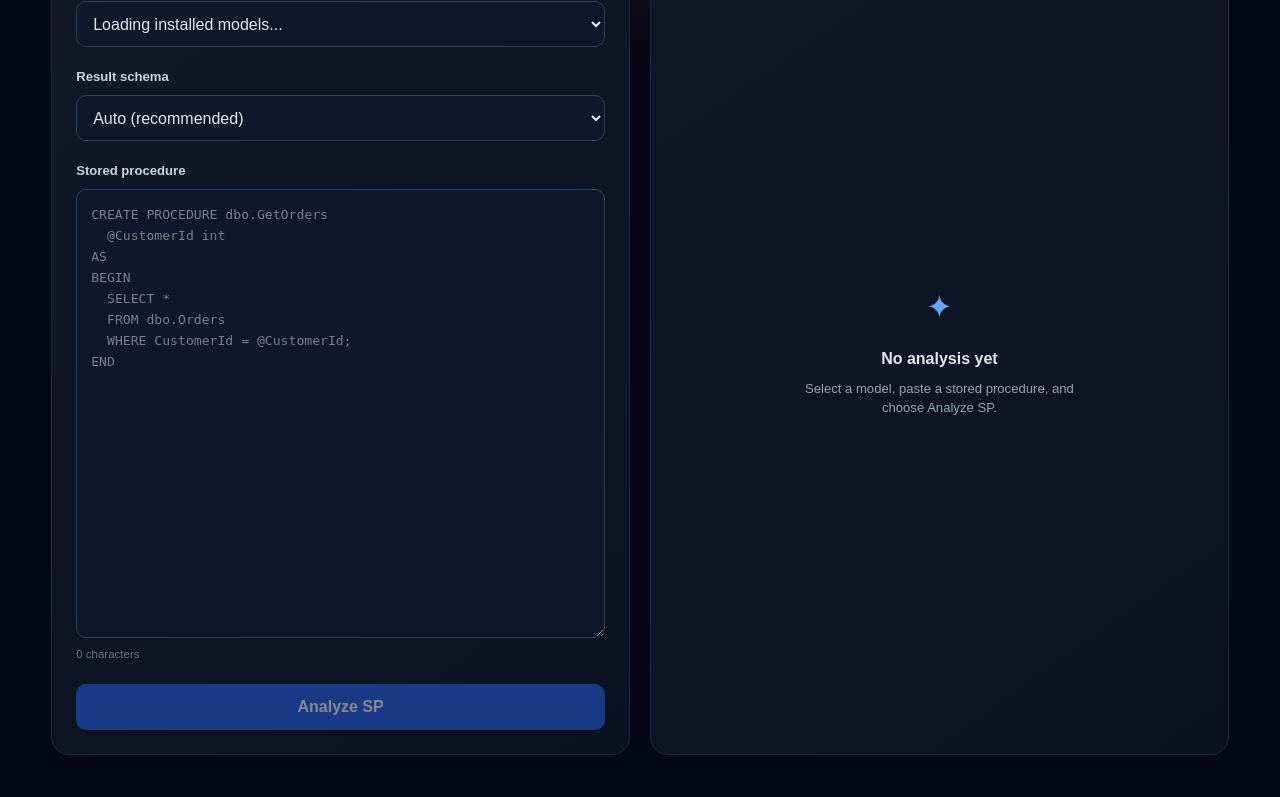
it: ReviewPage › shows unparsed model output in the Analysis results panel
(page scrolled)
Replace the text in the text box with placeholder "CREATE PROCEDURE" with "select 1" at (341, 414), box left=76, top=189, right=605, bottom=638
(page scrolled)
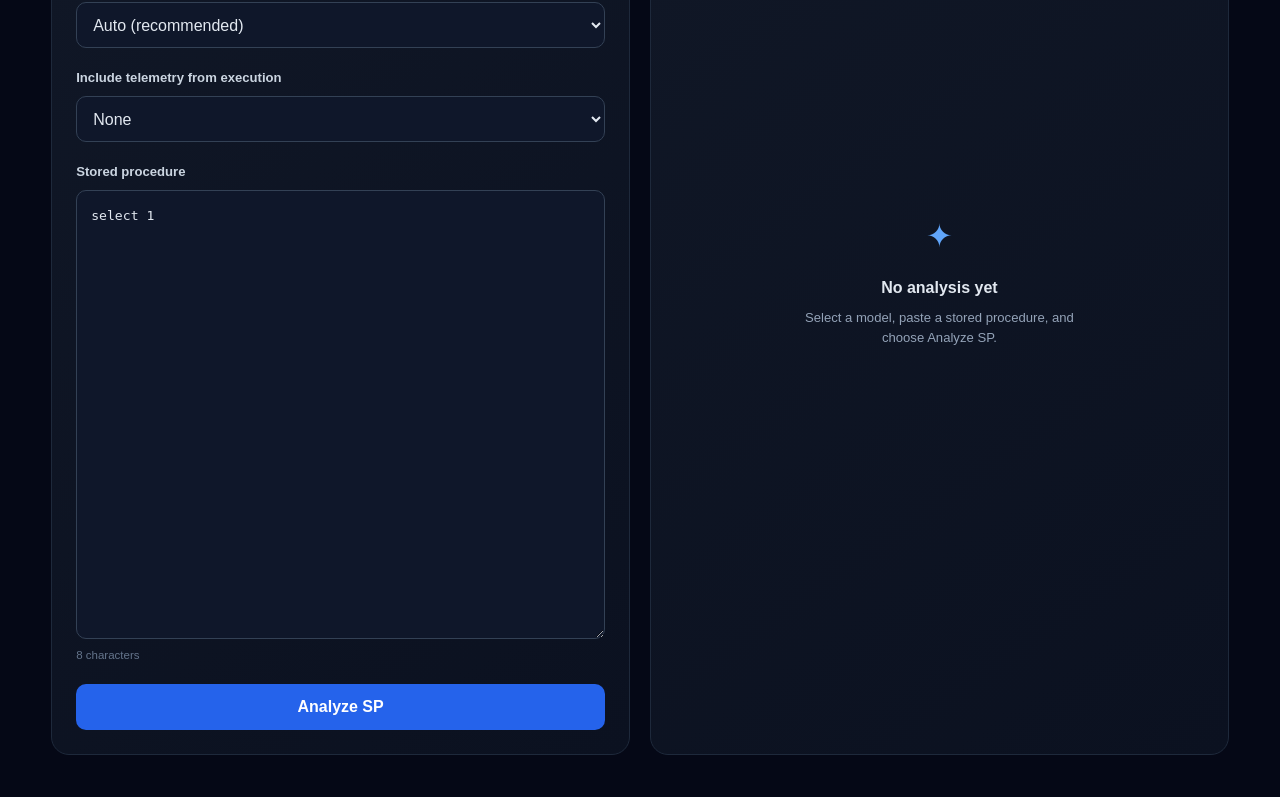
Click the button "Analyze SP".
click(341, 708)  # box left=76, top=684, right=605, bottom=730
(page scrolled)
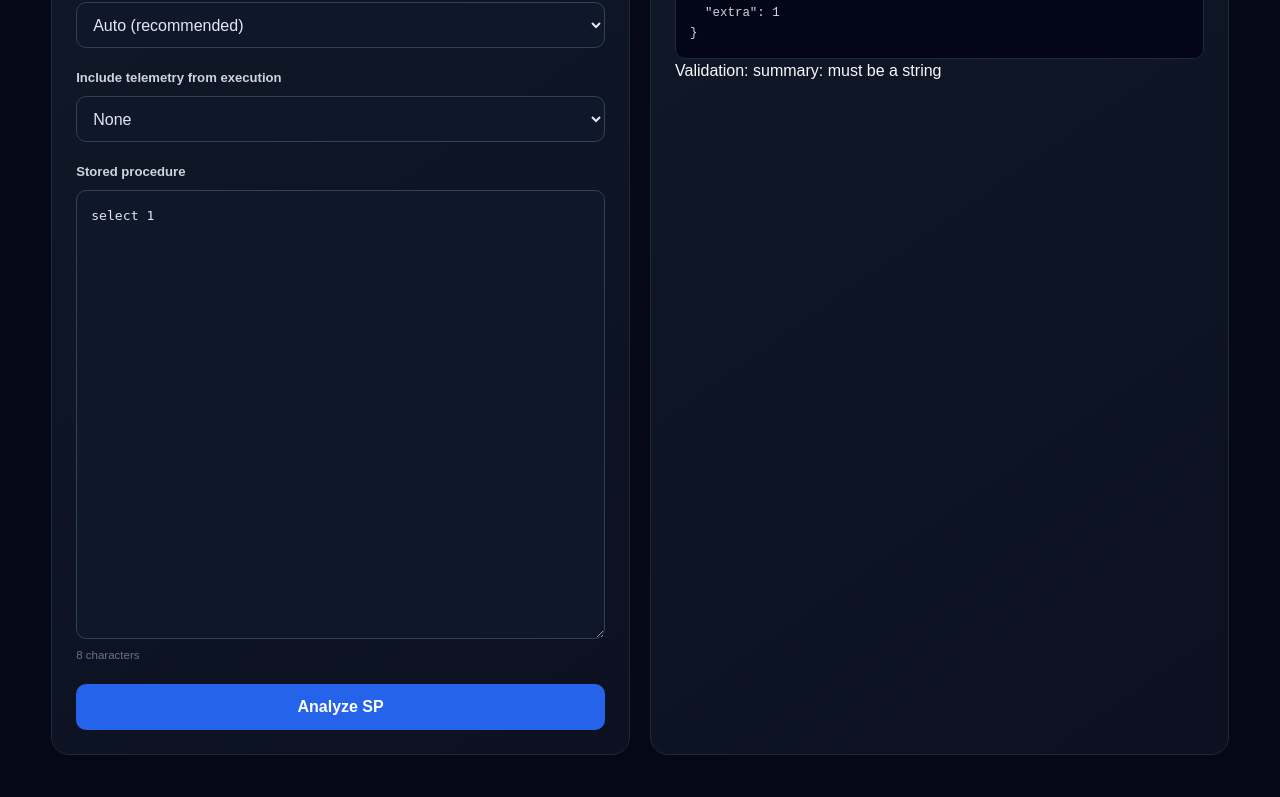
Now the text "Validation: summary: must be a string" is shown, box left=675, top=62, right=942, bottom=79
